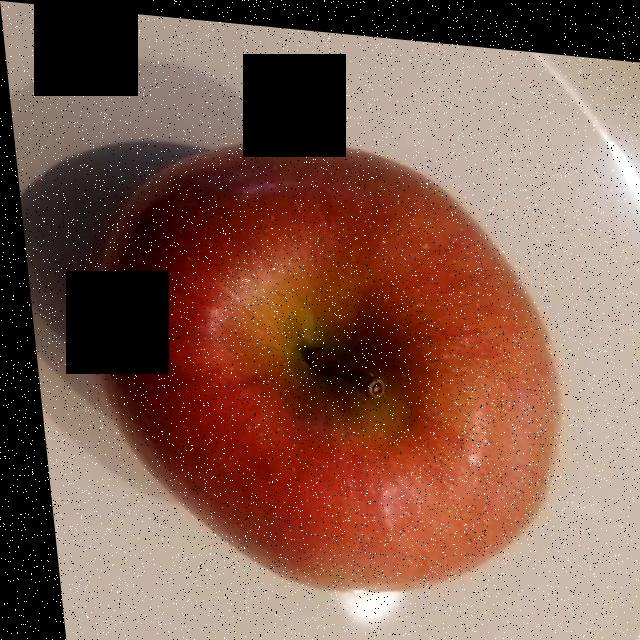apple: (103, 139, 547, 580)
